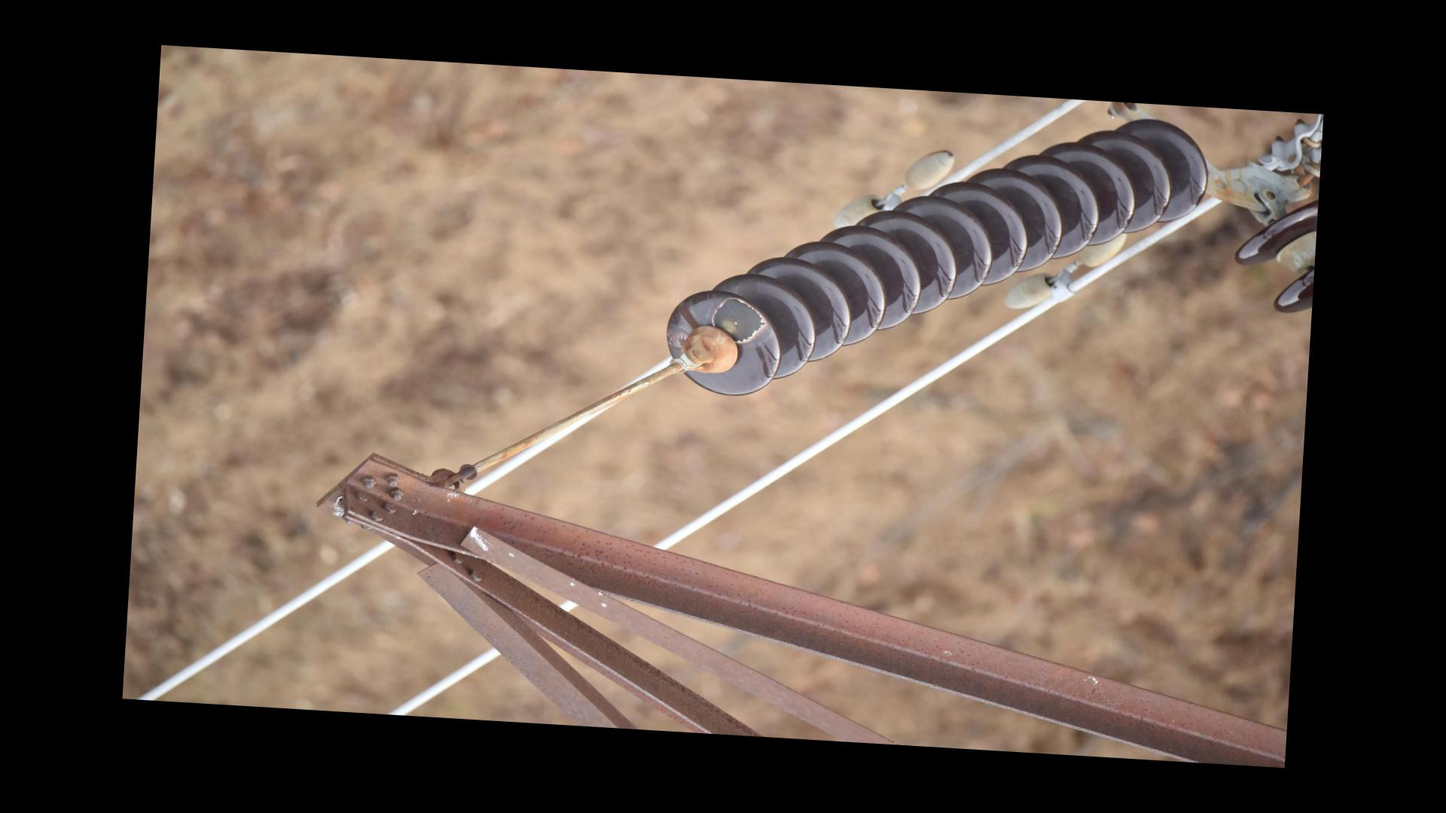damper: (828, 136, 960, 240), (996, 222, 1131, 320)
